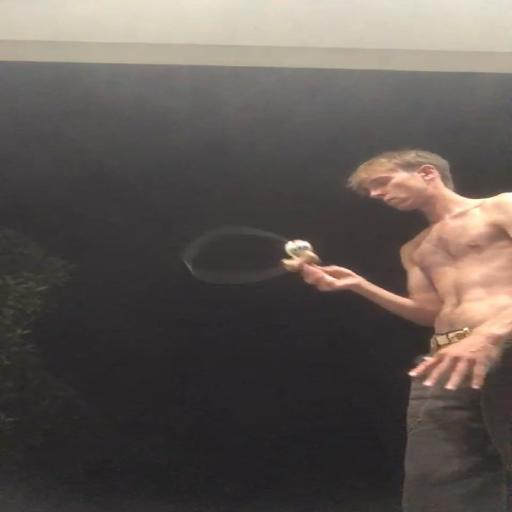kendama_ball: (284, 239, 312, 258)
